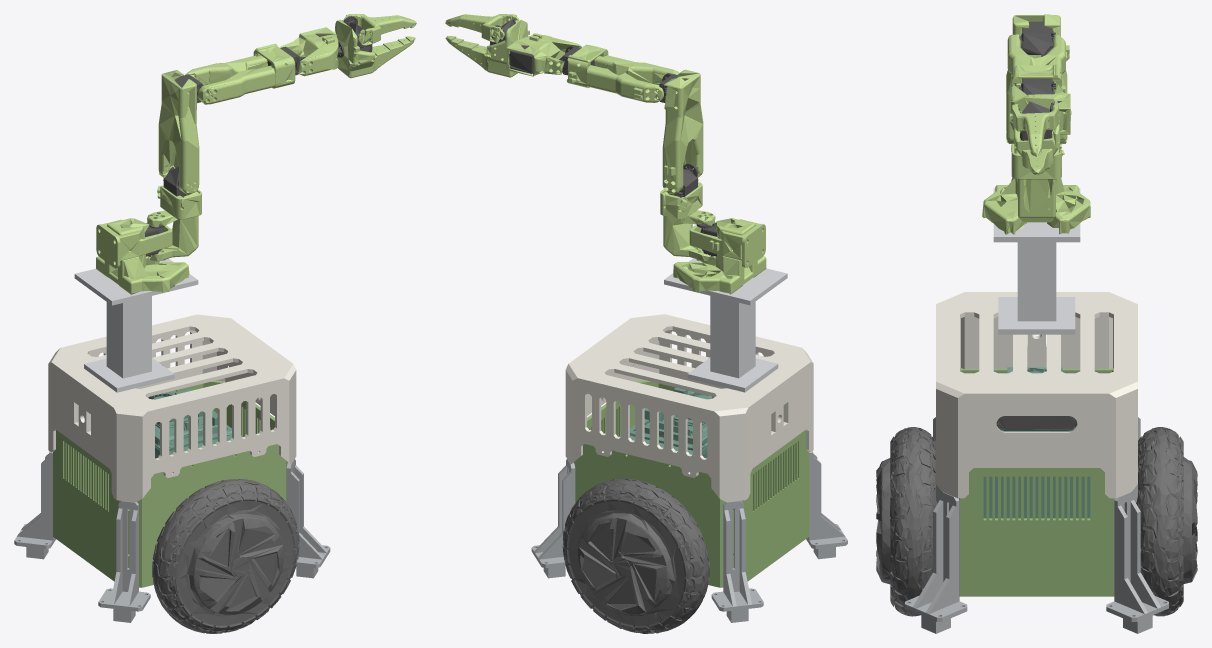
File: via_c_v0_1_khop.glb
3 views of the same model, side by side, from view 1: azimuth 30°, elevation 25°; view 2: azimuth 150°, elevation 25°; view 3: azimuth 270°, elevation 25° (orthographic). The views are drawn at different scales.
Parts seen in each view (by area): view 1: base_shell, base_wheel, base_chassis, base_bracket, riser, hinh_upper_arm_link_1, hinh_base_link_1, hinh_lower_arm_link_0, hinh_gripper_link_1, hinh_wrist_link_1, hinh_shoulder_link_2, base_board (+5 smaller); view 2: base_shell, base_wheel, base_chassis, base_bracket, riser, hinh_upper_arm_link_1, hinh_base_link_1, hinh_lower_arm_link_0, hinh_wrist_link_1, hinh_gripper_link_1, hinh_shoulder_link_2, base_board (+5 smaller); view 3: base_shell, base_wheel, base_chassis, base_bracket, riser, base_board, hinh_base_link_1, hinh_shoulder_link_2, hinh_gripper_link_1, hinh_lower_arm_link_0, hinh_upper_arm_link_1, hinh_moving_jaw_so101_v1_link_0 (+6 smaller).
Boxes of the visible parts, x1,y1,x2,y2 form: base_shell: (48, 314, 296, 502); base_wheel: (152, 479, 299, 633); base_chassis: (53, 380, 288, 587); base_bracket: (14, 451, 330, 622); riser: (74, 258, 198, 392); hinh_upper_arm_link_1: (158, 70, 199, 195); hinh_base_link_1: (96, 218, 189, 294); hinh_lower_arm_link_0: (185, 55, 275, 104); hinh_gripper_link_1: (335, 19, 415, 78); hinh_wrist_link_1: (279, 27, 338, 76); hinh_shoulder_link_2: (147, 191, 198, 261); base_board: (147, 389, 242, 458); base_shell: (565, 314, 813, 502); base_wheel: (562, 478, 709, 633); base_chassis: (573, 380, 809, 587); base_bracket: (531, 451, 847, 622); riser: (664, 258, 787, 392); hinh_upper_arm_link_1: (662, 69, 703, 194); hinh_base_link_1: (673, 218, 766, 294); hinh_lower_arm_link_0: (587, 55, 679, 102); hinh_wrist_link_1: (506, 33, 581, 76); hinh_gripper_link_1: (445, 20, 529, 77); hinh_shoulder_link_2: (663, 191, 715, 260); base_board: (619, 387, 714, 458); base_shell: (936, 292, 1137, 498); base_wheel: (876, 427, 1197, 616); base_chassis: (940, 368, 1133, 596); base_bracket: (905, 417, 1168, 633); riser: (993, 188, 1080, 334); base_board: (983, 367, 1090, 518); hinh_base_link_1: (982, 177, 1090, 234); hinh_shoulder_link_2: (1014, 148, 1058, 222); hinh_gripper_link_1: (1009, 97, 1060, 174); hinh_lower_arm_link_0: (1007, 34, 1069, 92); hinh_upper_arm_link_1: (1006, 14, 1071, 144); hinh_moving_jaw_so101_v1_link_0: (1012, 102, 1059, 156).
Bounding box in the file's own units: 0.4992 × 0.6979 × 0.3342.
